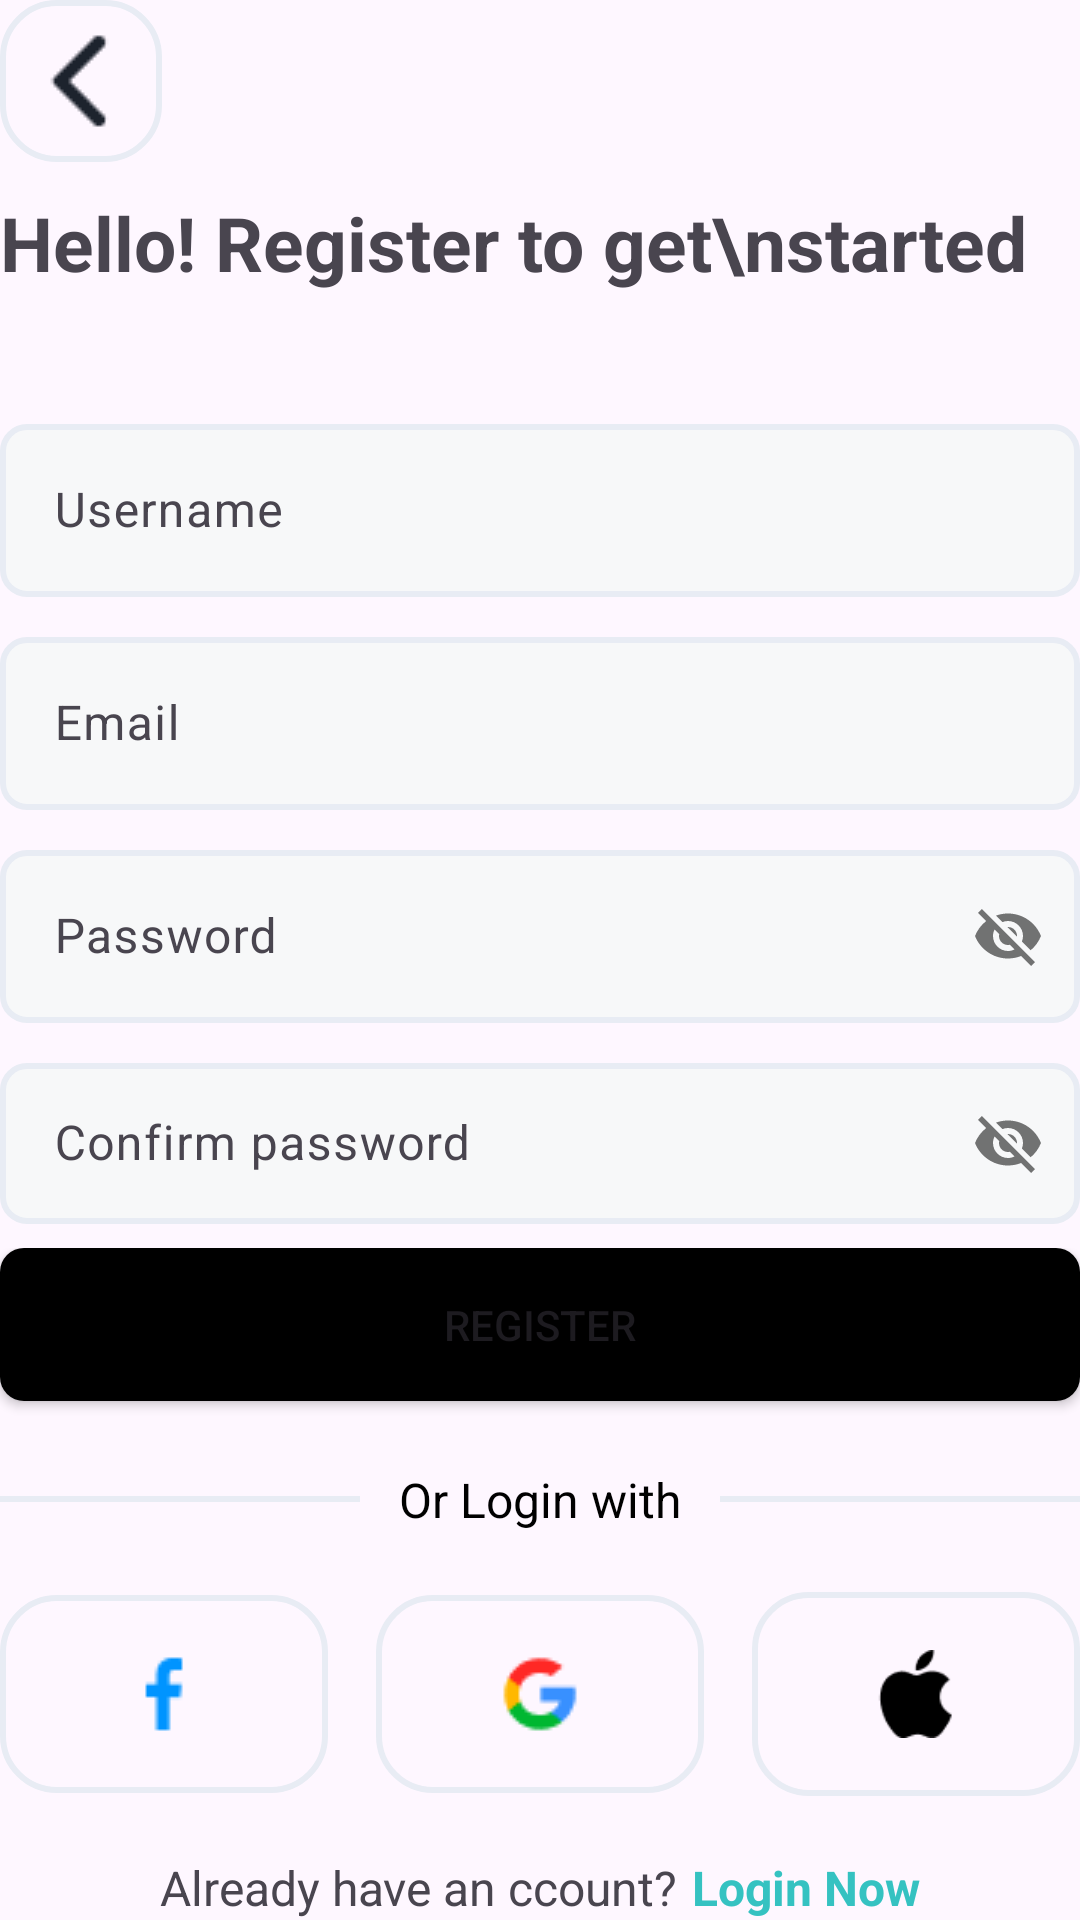

Named icons in this screenshot (1080 x 1920) and their bounding boxes, (x1, y1, x2, y2):
Back: (51, 35, 106, 127)
